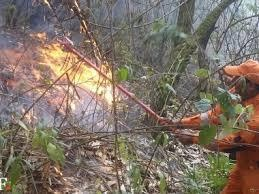fire: (29, 25, 118, 115)
